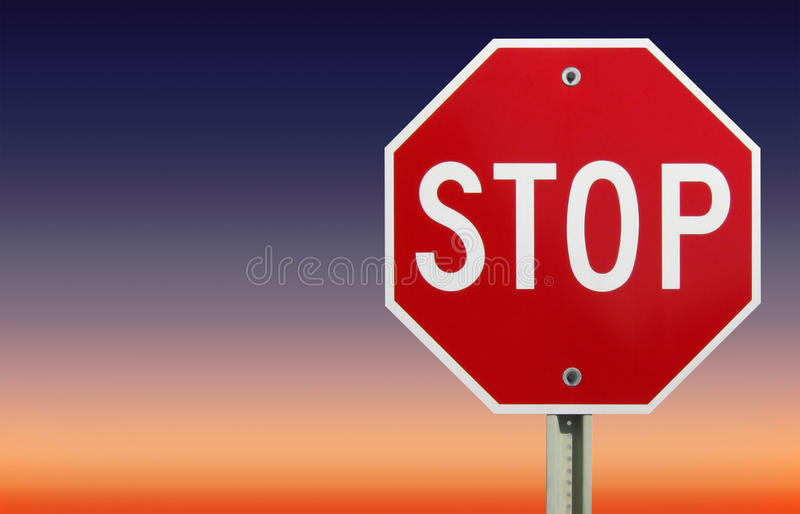Stop: (379, 32, 767, 417)
